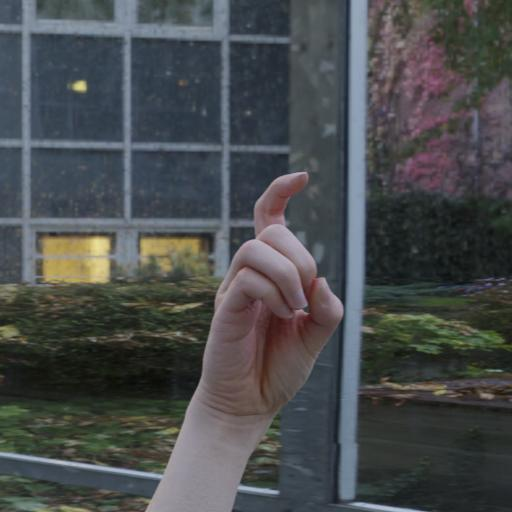X: (189, 157, 366, 434)
